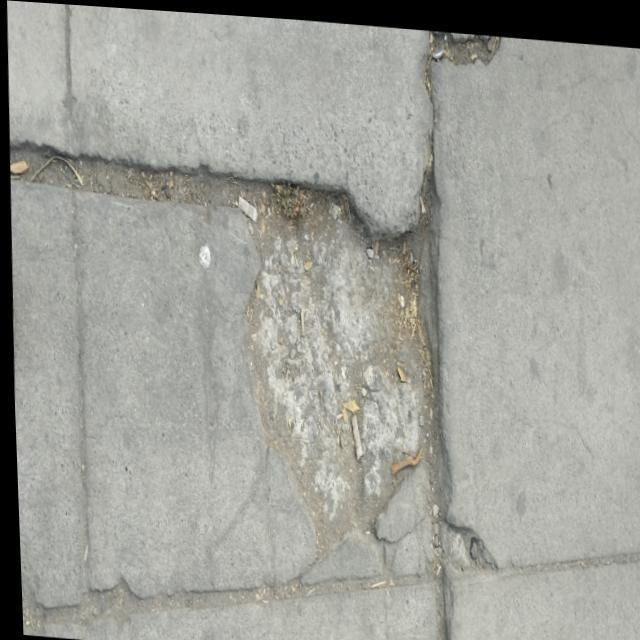hole: (230, 170, 443, 560), (11, 116, 260, 232)
